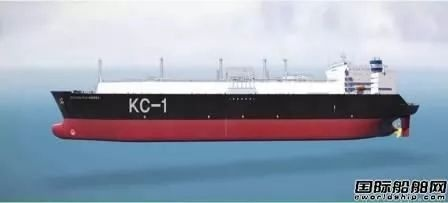Cargoship: (46, 51, 415, 146)
